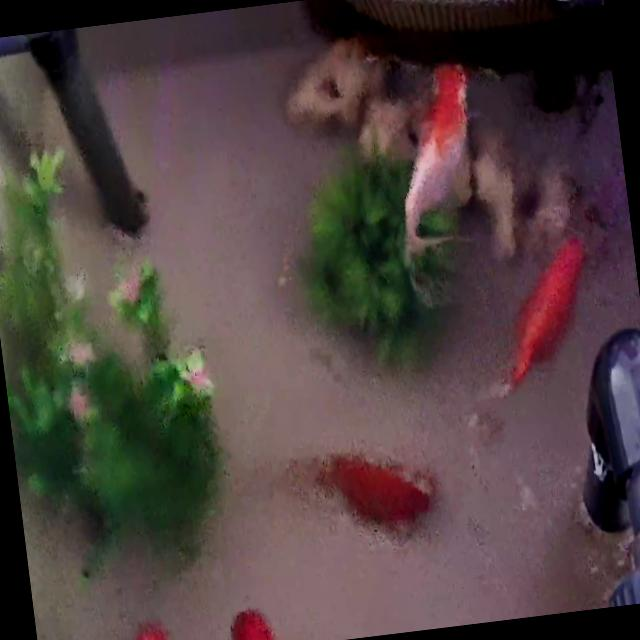fish: (382, 58, 492, 283), (488, 235, 602, 390), (322, 444, 431, 539)
